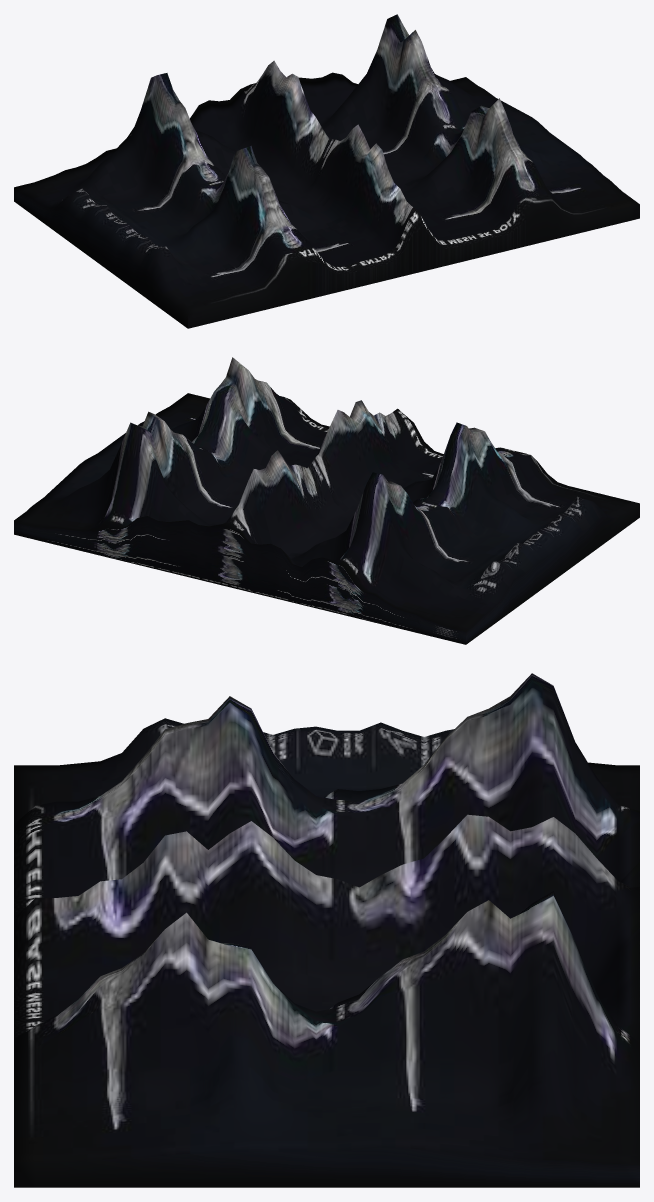
The model's file is BASE_02_Athletic_Mesh.glb.
The picture shows the model from 3 angles, top to bottom: view 1: azimuth 30°, elevation 25°; view 2: azimuth 150°, elevation 25°; view 3: azimuth 270°, elevation 25°; orthographic projection. The views are drawn at different scales.
Parts seen in each view (by area): view 1: BASE_02_Athletic_Mesh; view 2: BASE_02_Athletic_Mesh; view 3: BASE_02_Athletic_Mesh.
Part boxes in pixels (<box>): BASE_02_Athletic_Mesh: <box>14,14,639,328</box>; BASE_02_Athletic_Mesh: <box>14,357,639,644</box>; BASE_02_Athletic_Mesh: <box>14,673,639,1187</box>.
Bounding box in the file's own units: 2 × 0.51 × 1.33.
Materials: 1 (1 with a texture image).
